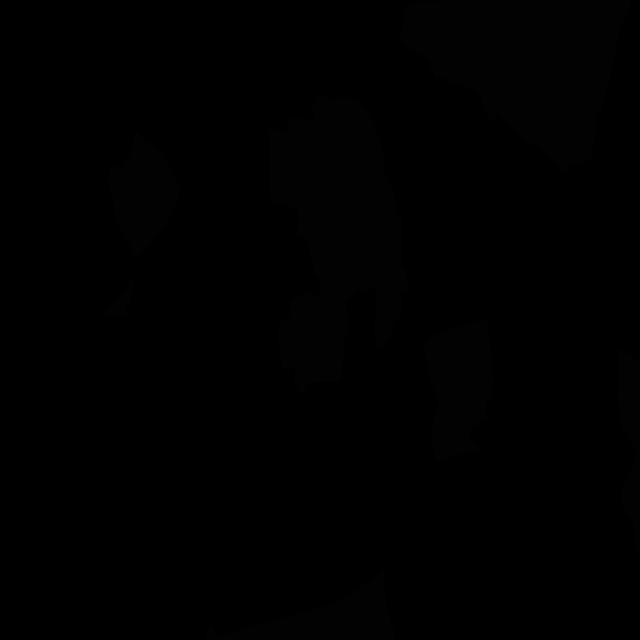cardboard: (268, 96, 408, 397), (400, 0, 631, 172), (206, 563, 395, 640), (422, 319, 494, 462), (108, 131, 180, 258), (617, 348, 640, 561), (105, 279, 133, 316)
